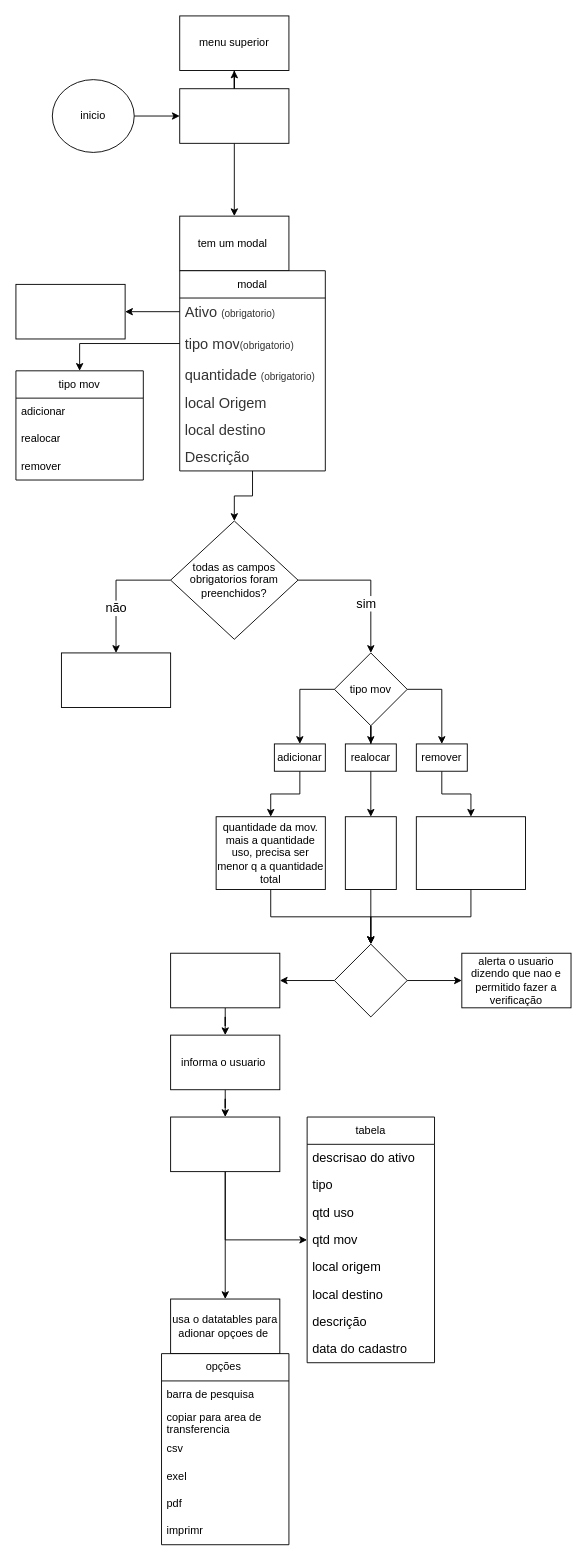
This 587x1561 diagram has some shape labels left out. Each missing label, with the centre of its shape:
"da o alert e retorna para o modal" goes at point (116, 680).
"faz um forech e pega todos os ativos ja cadastrados" goes at point (70, 311).
"monta um insert com as informações e manda para o banco" goes at point (225, 980).
"quantidade de uso menos a quantidade de movimentação sendo maior q zero" goes at point (470, 853).
"quantidade uso menos a quantidade mov" goes at point (370, 853).
"tela com as informações cadastradas" goes at point (225, 1144).
"tela com as movimentações cadastradas" goes at point (234, 115).
"verifica" goes at point (370, 980).
